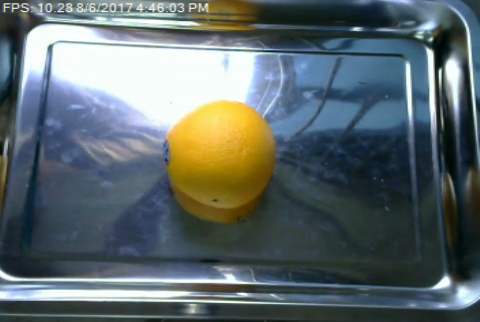Orange: (162, 101, 276, 208)
